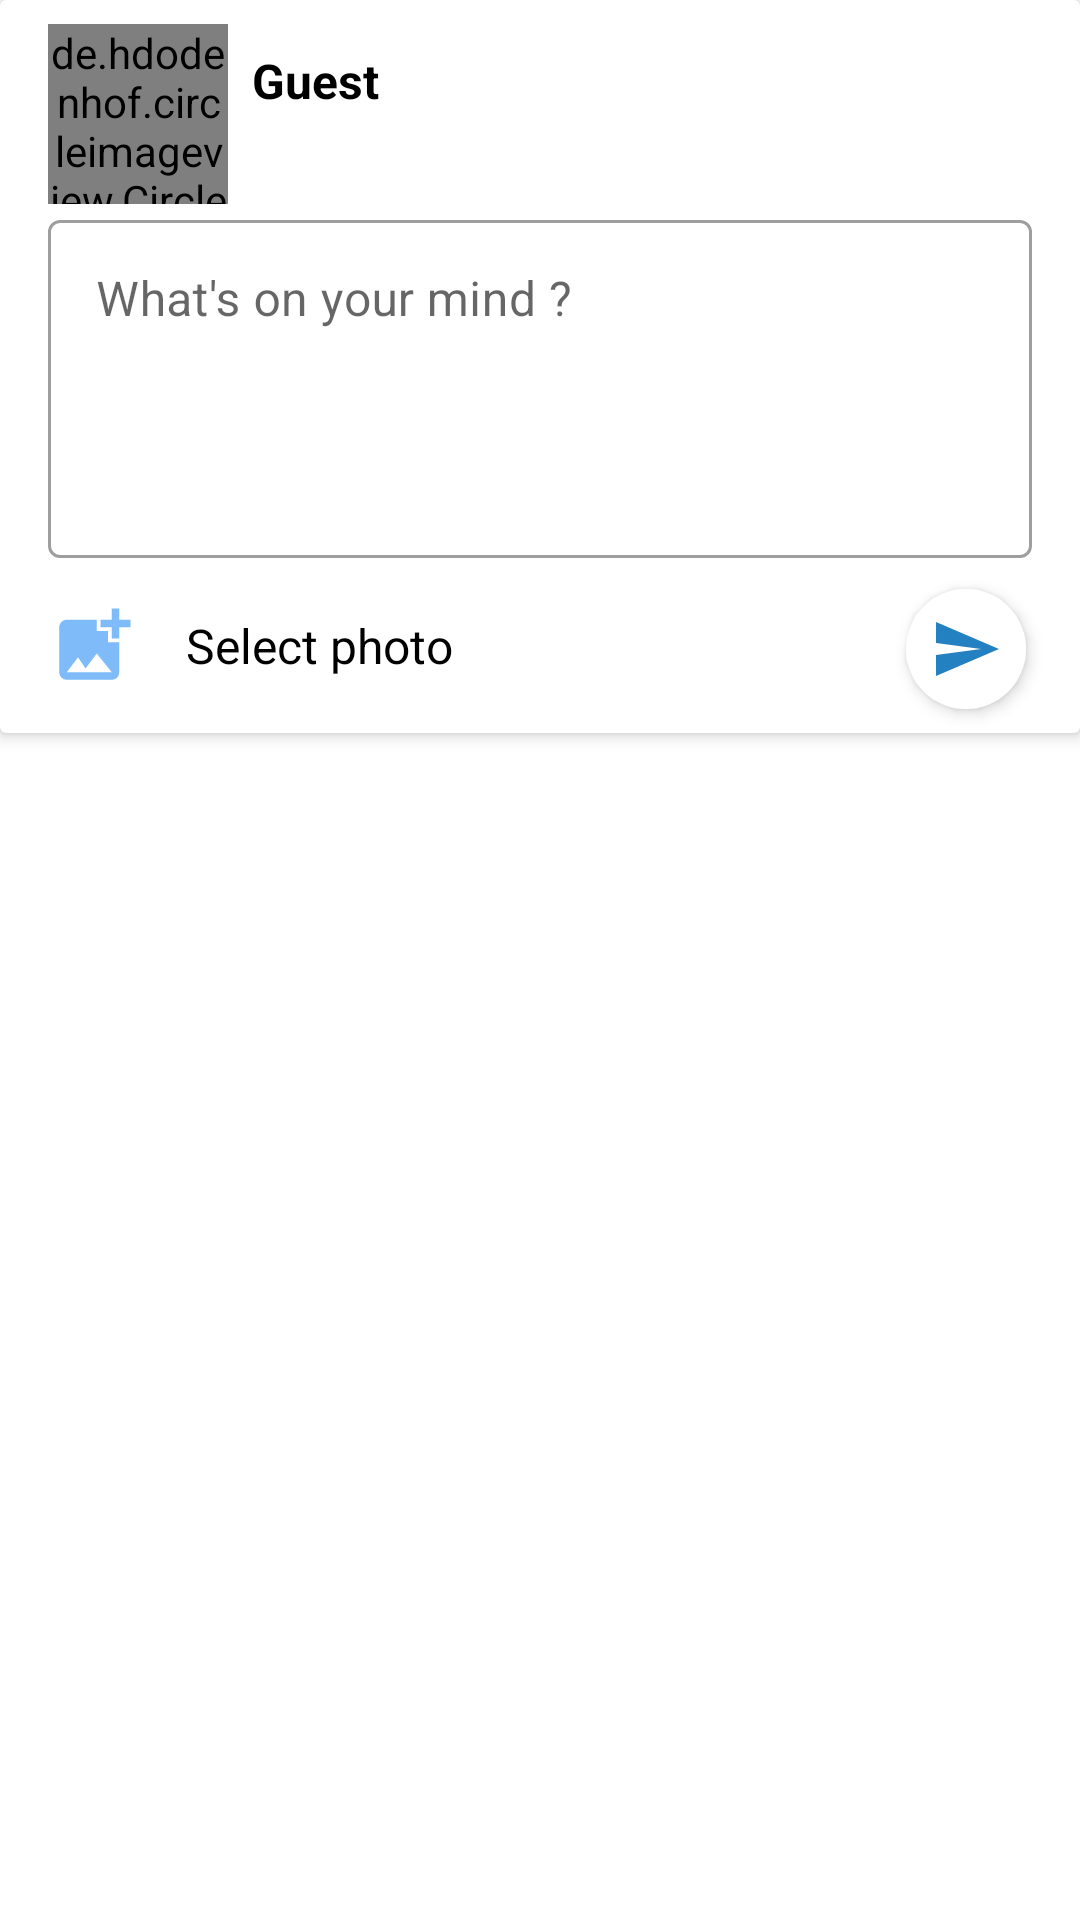

Where icons sit on this 1080*1920 app screen, as bbox=(x1, y1, x2, y2):
add photo alternate: bbox=(59, 608, 131, 680)
send: bbox=(916, 618, 1026, 709)
